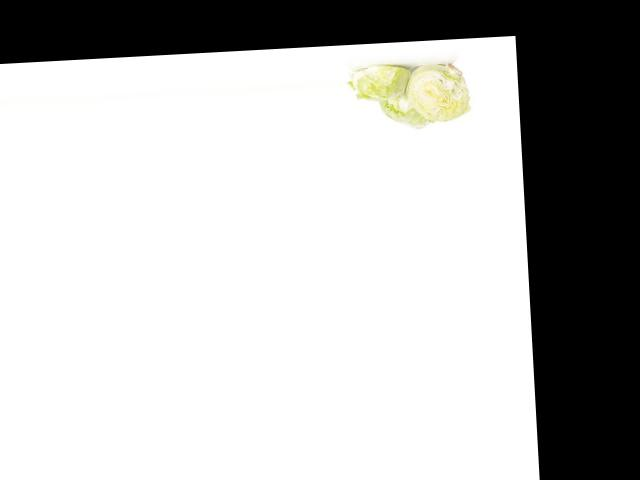lettuce: (372, 86, 441, 133)
